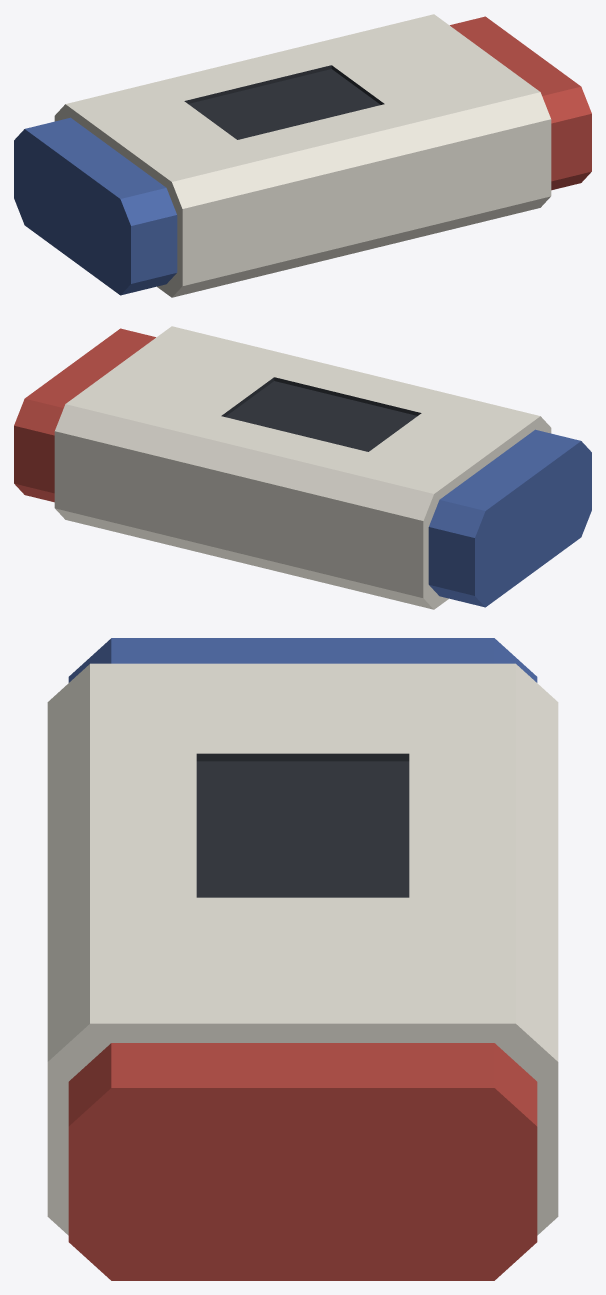
Rendered from eraser.glb.
3 renders of one model, top to bottom at view 1: azimuth 30°, elevation 25°; view 2: azimuth 150°, elevation 25°; view 3: azimuth 270°, elevation 25°, orthographic. The views are drawn at different scales.
Visible parts, largest first — view 1: eraser; view 2: eraser; view 3: eraser.
Boxes of the visible parts, <box> form: eraser: <box>14,14,591,297</box>; eraser: <box>14,326,591,609</box>; eraser: <box>47,638,558,1280</box>.
Size of the model in its own units: 0.05 by 0.012 by 0.024.
